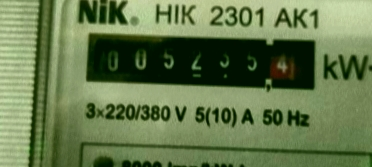0: (104, 46, 120, 72), (132, 46, 148, 71)
2: (187, 45, 204, 72)
3: (214, 43, 233, 69)
4: (272, 47, 291, 77)
5: (242, 44, 260, 73), (160, 44, 175, 70)
screen: (72, 17, 325, 102)
